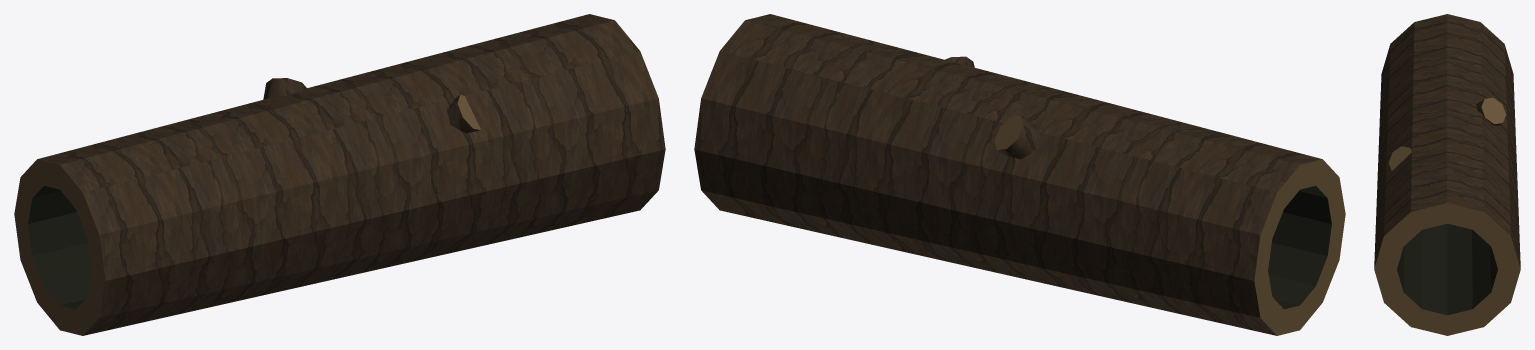
3 renders of one model, left to right at view 1: azimuth 30°, elevation 25°; view 2: azimuth 150°, elevation 25°; view 3: azimuth 270°, elevation 25°, orthographic. The views are drawn at different scales.
Parts seen in each view (by area): view 1: Open hollow log; view 2: Open hollow log; view 3: Open hollow log.
Part boxes in pixels (x1,y1,x2,y2): Open hollow log: (14, 14, 665, 335); Open hollow log: (694, 14, 1345, 335); Open hollow log: (1374, 14, 1520, 335).
Size of the model in its own units: 6 by 1.9 by 1.9.
Materials: 3 (1 with a texture image).
